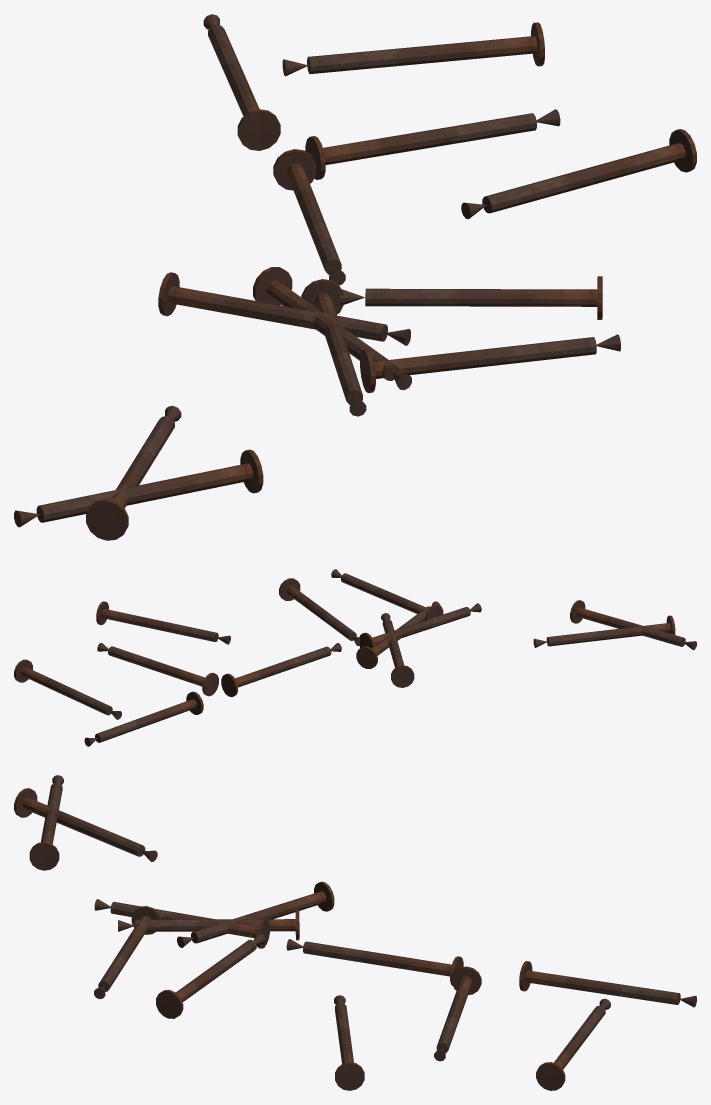
The model's file is EST-PRG-001.glb.
The picture shows the model from 3 angles, top to bottom: view 1: azimuth 30°, elevation 25°; view 2: azimuth 150°, elevation 25°; view 3: azimuth 270°, elevation 25°; orthographic projection. The views are drawn at different scales.
Parts seen in each view (by area): view 1: EST-PRG-001_prego, EST-PRG-001_prego.008, EST-PRG-001_prego.002, EST-PRG-001_prego.003, EST-PRG-001_prego.005, EST-PRG-001_prego.006, EST-PRG-001_prego.010, EST-PRG-001_prego.007, EST-PRG-001_prego.004, EST-PRG-001_prego.001, EST-PRG-001_prego.011, EST-PRG-001_prego.009; view 2: EST-PRG-001_prego.008, EST-PRG-001_prego.002, EST-PRG-001_prego.004, EST-PRG-001_prego.007, EST-PRG-001_prego.001, EST-PRG-001_prego.010, EST-PRG-001_prego, EST-PRG-001_prego.005, EST-PRG-001_prego.003, EST-PRG-001_prego.009, EST-PRG-001_prego.006, EST-PRG-001_prego.011; view 3: EST-PRG-001_prego.007, EST-PRG-001_prego.004, EST-PRG-001_prego.001, EST-PRG-001_prego.006, EST-PRG-001_prego.003, EST-PRG-001_prego, EST-PRG-001_prego.011, EST-PRG-001_prego.002, EST-PRG-001_prego.008, EST-PRG-001_prego.010, EST-PRG-001_prego.005, EST-PRG-001_prego.009.
Part boxes in pixels (bbox=[...]): EST-PRG-001_prego: bbox=[282, 22, 544, 76]; EST-PRG-001_prego.008: bbox=[461, 129, 696, 219]; EST-PRG-001_prego.002: bbox=[305, 109, 560, 179]; EST-PRG-001_prego.003: bbox=[340, 276, 602, 319]; EST-PRG-001_prego.005: bbox=[360, 334, 620, 392]; EST-PRG-001_prego.006: bbox=[158, 272, 410, 345]; EST-PRG-001_prego.010: bbox=[14, 449, 263, 527]; EST-PRG-001_prego.007: bbox=[203, 14, 280, 150]; EST-PRG-001_prego.004: bbox=[273, 149, 345, 285]; EST-PRG-001_prego.001: bbox=[86, 405, 181, 540]; EST-PRG-001_prego.011: bbox=[253, 267, 411, 389]; EST-PRG-001_prego.009: bbox=[301, 279, 366, 416]; EST-PRG-001_prego.008: bbox=[96, 601, 230, 644]; EST-PRG-001_prego.002: bbox=[97, 643, 218, 696]; EST-PRG-001_prego.004: bbox=[221, 643, 341, 696]; EST-PRG-001_prego.007: bbox=[84, 691, 203, 746]; EST-PRG-001_prego.001: bbox=[533, 615, 675, 647]; EST-PRG-001_prego.010: bbox=[570, 600, 696, 649]; EST-PRG-001_prego: bbox=[14, 659, 121, 719]; EST-PRG-001_prego.005: bbox=[331, 569, 443, 620]; EST-PRG-001_prego.003: bbox=[279, 578, 359, 645]; EST-PRG-001_prego.009: bbox=[359, 603, 481, 648]; EST-PRG-001_prego.006: bbox=[381, 613, 414, 687]; EST-PRG-001_prego.011: bbox=[356, 601, 440, 668]; EST-PRG-001_prego.007: bbox=[519, 961, 696, 1007]; EST-PRG-001_prego.004: bbox=[286, 939, 463, 985]; EST-PRG-001_prego.001: bbox=[14, 788, 157, 861]; EST-PRG-001_prego.006: bbox=[177, 881, 334, 947]; EST-PRG-001_prego.003: bbox=[156, 933, 265, 1018]; EST-PRG-001_prego: bbox=[536, 998, 610, 1090]; EST-PRG-001_prego.011: bbox=[118, 910, 299, 940]; EST-PRG-001_prego.002: bbox=[434, 966, 481, 1061]; EST-PRG-001_prego.008: bbox=[334, 995, 364, 1090]; EST-PRG-001_prego.010: bbox=[29, 775, 63, 870]; EST-PRG-001_prego.005: bbox=[94, 906, 160, 999]; EST-PRG-001_prego.009: bbox=[94, 899, 270, 948].
Size of the model in its own units: 0.1859 by 0.00798 by 0.1797.
Materials: 1 (1 with a texture image).
